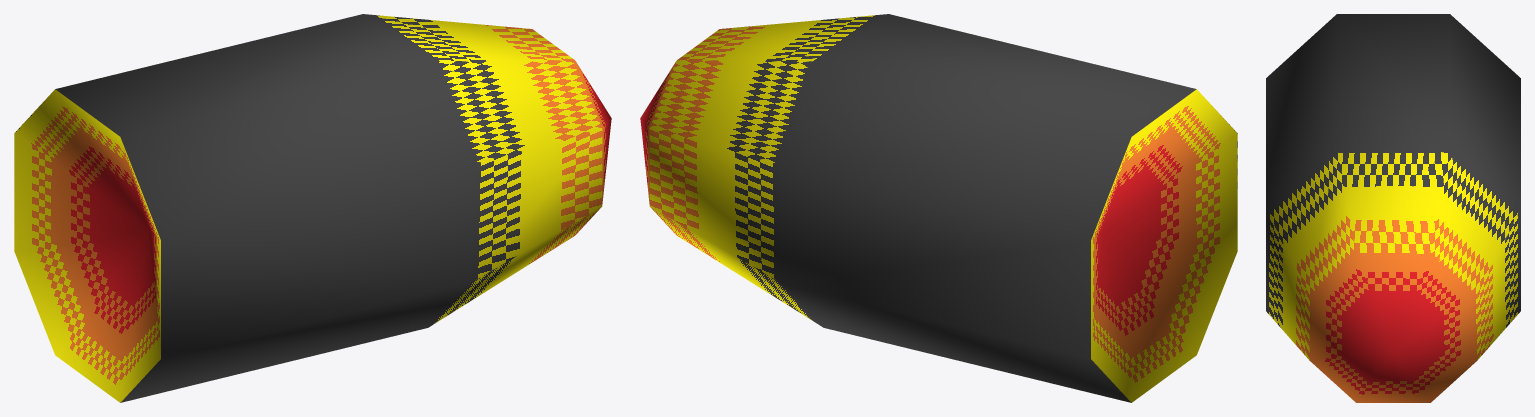
The model's file is bazooka_projectile.obj.
The picture shows the model from 3 angles, left to right: view 1: azimuth 30°, elevation 25°; view 2: azimuth 150°, elevation 25°; view 3: azimuth 270°, elevation 25°; orthographic projection. The views are drawn at different scales.
Parts seen in each view (by area): view 1: bazooka_projectile; view 2: bazooka_projectile; view 3: bazooka_projectile.
Part boxes in pixels (x1=…): bazooka_projectile: x1=14, y1=14, x2=611, y2=402; bazooka_projectile: x1=640, y1=14, x2=1237, y2=402; bazooka_projectile: x1=1266, y1=14, x2=1520, y2=402.
Bounding box in the file's own units: 4.12 × 2 × 2.
1 material, 1 textured.
